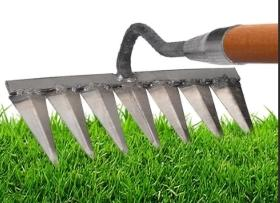RATEAU: (0, 8, 280, 203)
